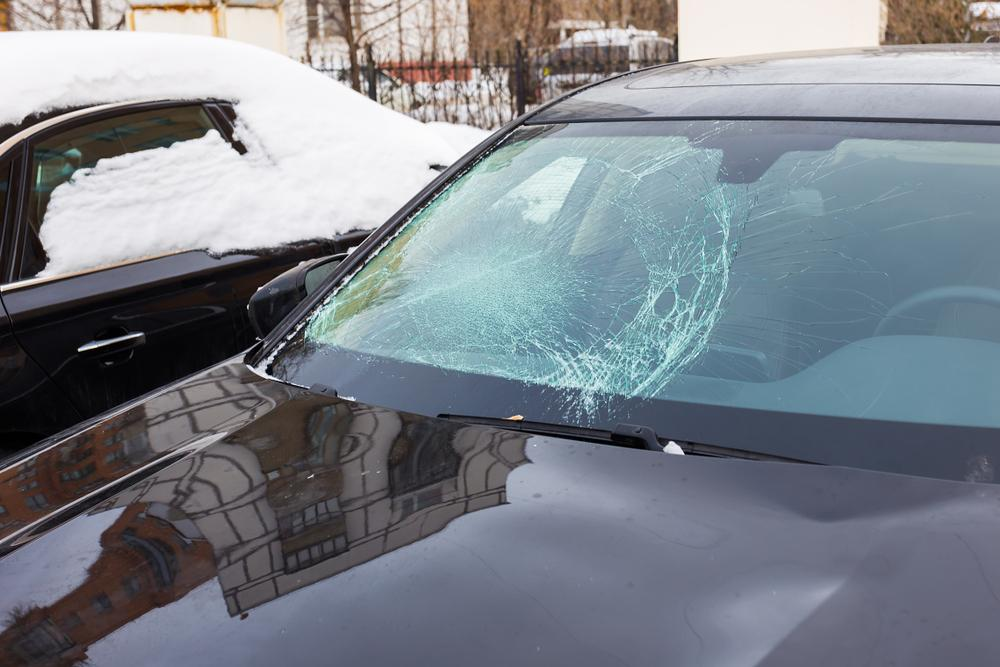dent: (492, 468, 958, 667)
glass shatter: (261, 117, 1000, 485)
